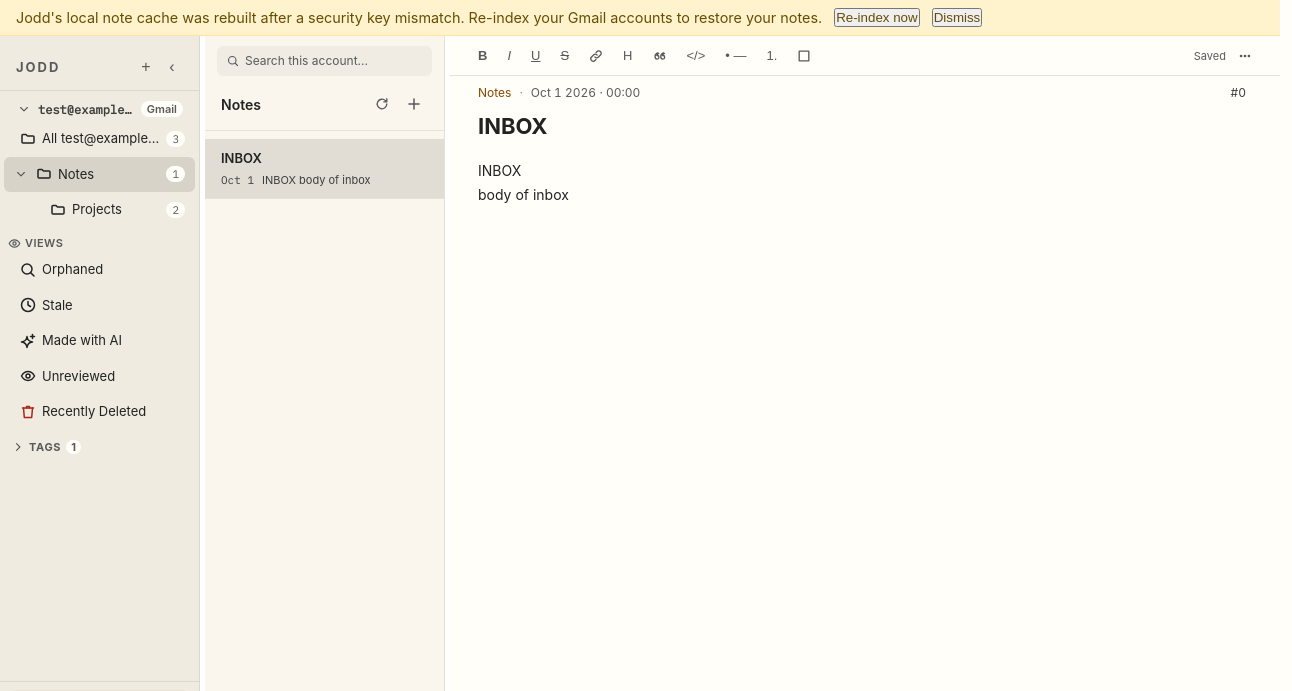
App: picking a view opens its first note (desktop) › a folder click opens the pinned note, then a remote-changed reorder leaves it open
Check: the text titled "Projects" is shown, box [72, 201, 122, 217]
Click the button titled "Projects": (118, 209) [50, 201, 185, 218]
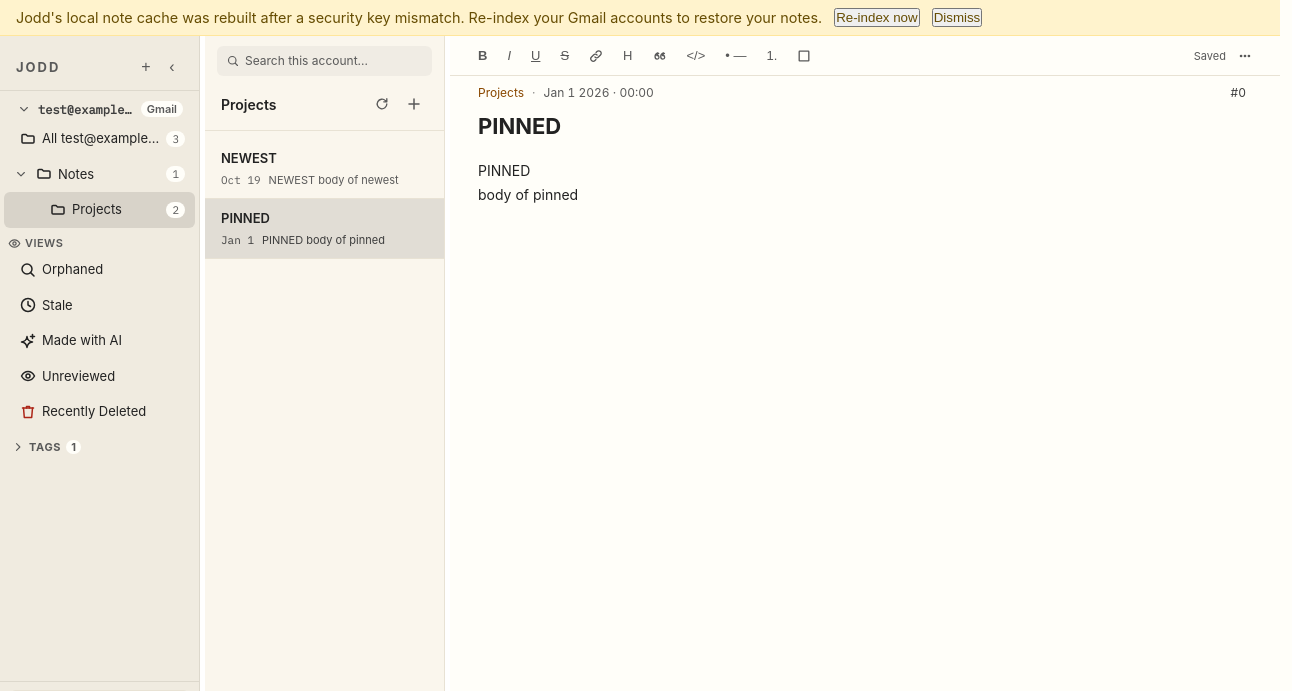
Check: the text "PINNED" is shown, box [221, 210, 270, 226]
Check: the list item with class "note-item" shows "PINNED", box [221, 210, 270, 226]
Check: the list item with class "note-item" shows "NEWEST", box [221, 150, 277, 166]
